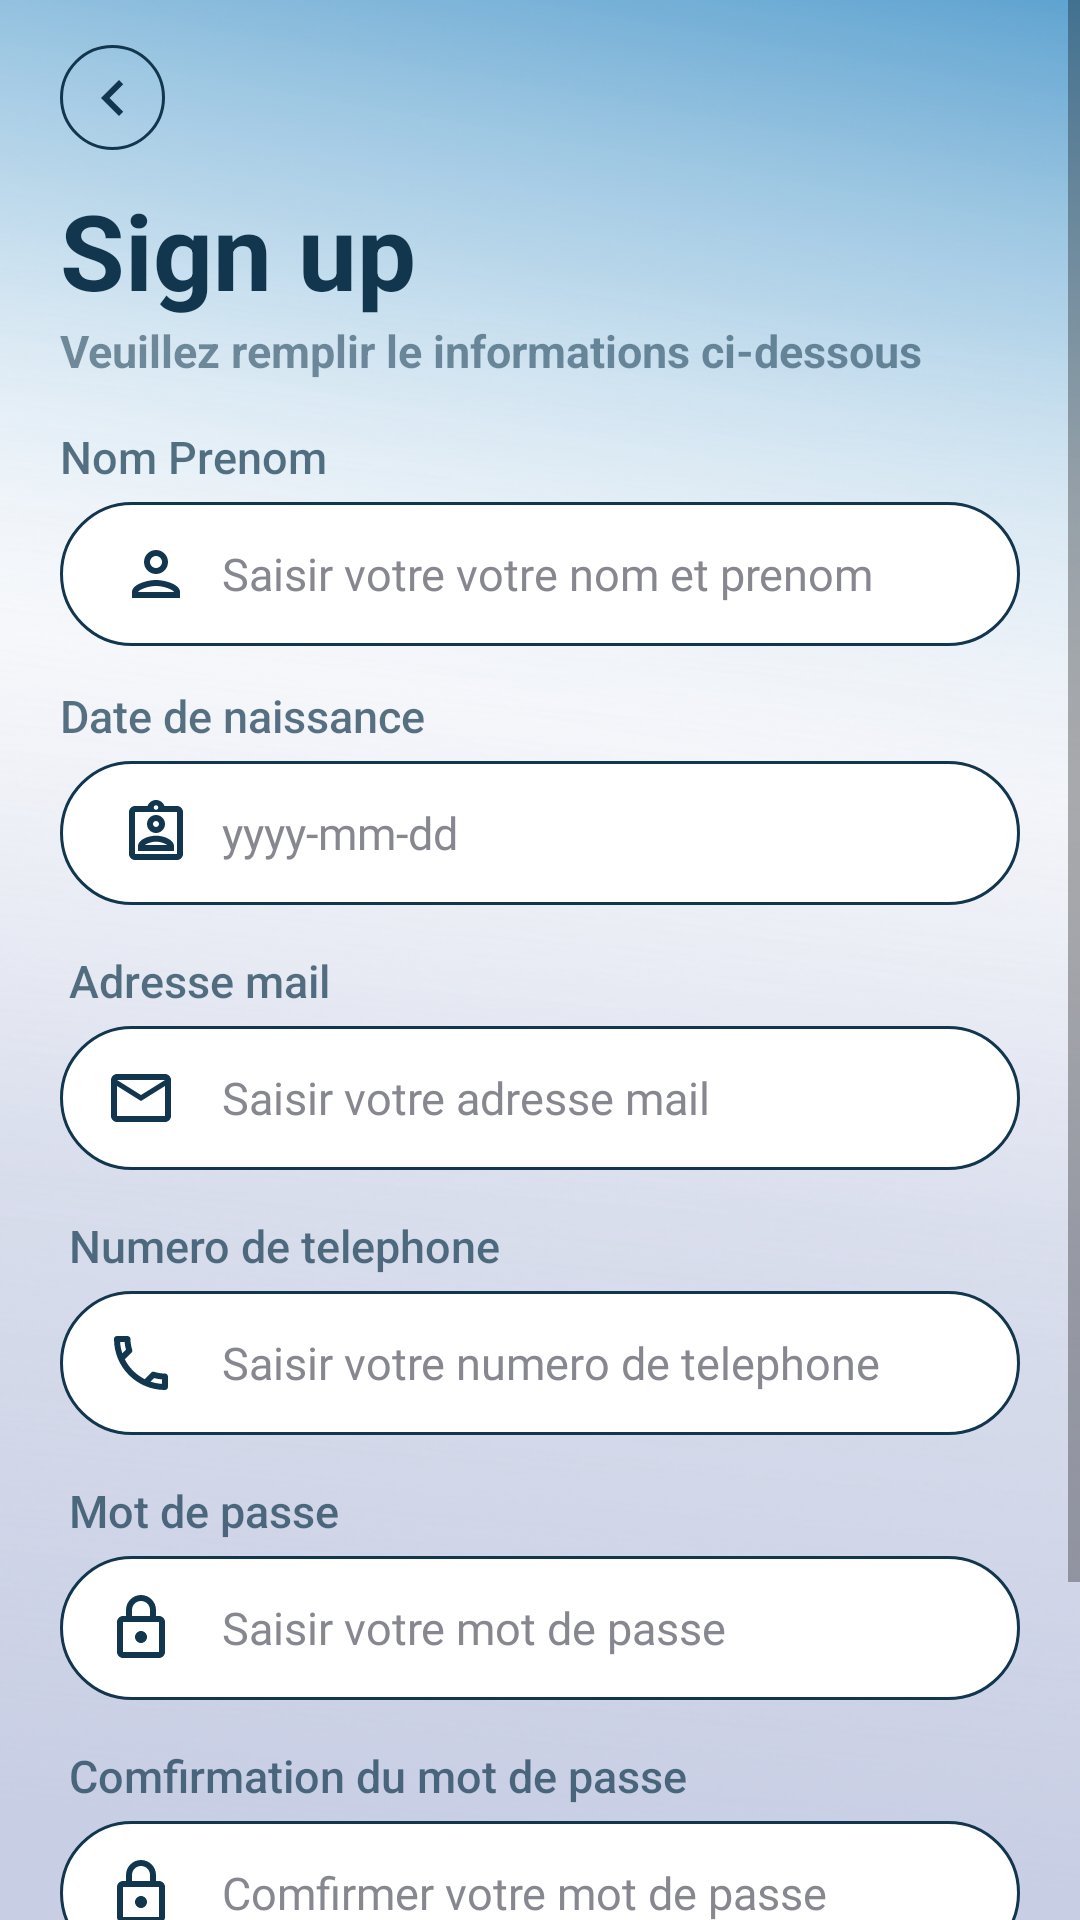

Named icons in this screenshot (1080 x 1920) and their centers, [x,y]:
navigate before: [112,97]
